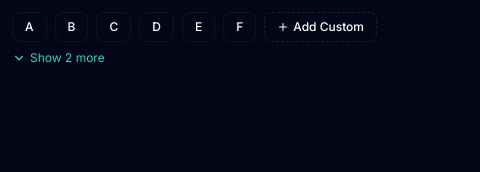
SideEffectChips › expands to show all side effects when expand button is clicked
Click the button "Show 2 more": (58, 58) [12, 50, 105, 66]
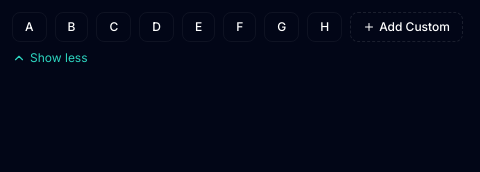
Now the button "G" is shown, box [264, 12, 299, 42]
Now the button "H" is shown, box [307, 12, 342, 42]
Now the button "Show less" is shown, box [12, 50, 88, 66]
